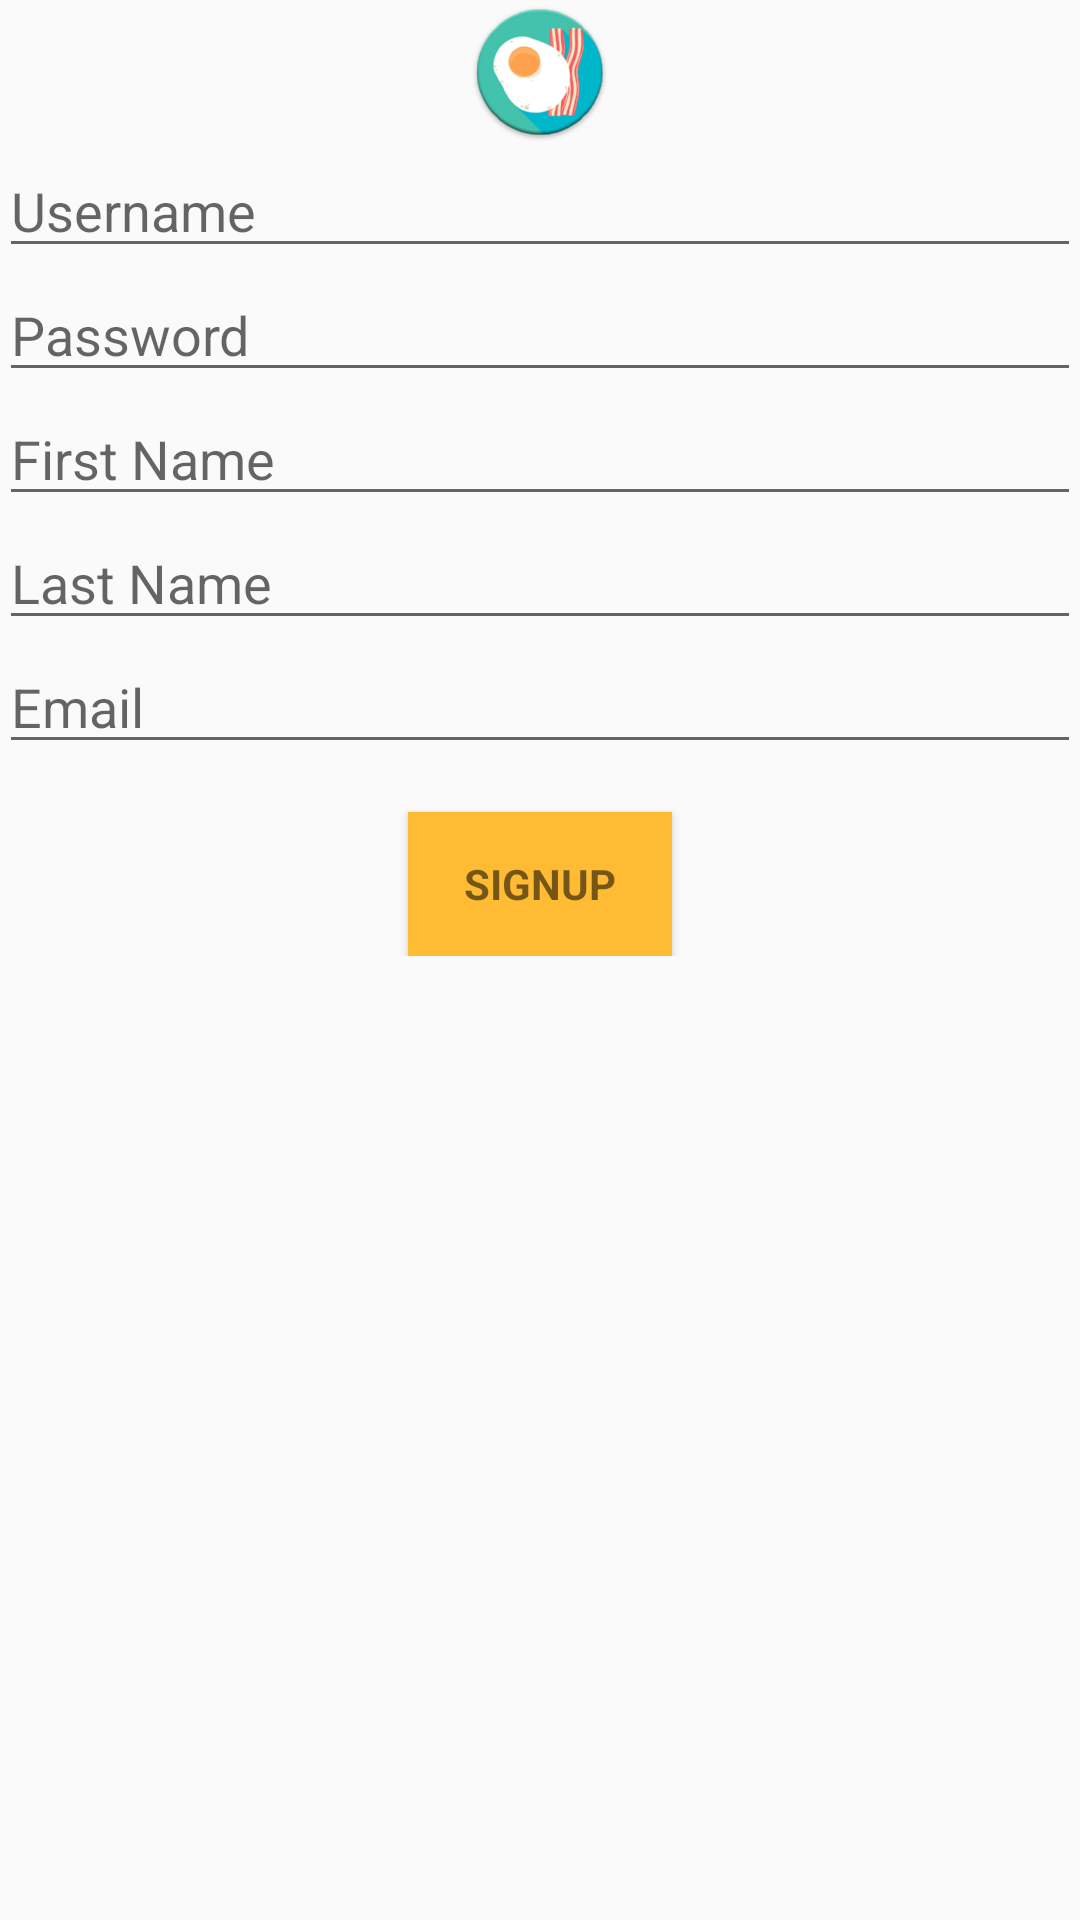

Icon bounding boxes for this 1080×1920 phone screenshot, format BBox(x1, y1, x2, y2):
app: BBox(476, 9, 604, 138)
